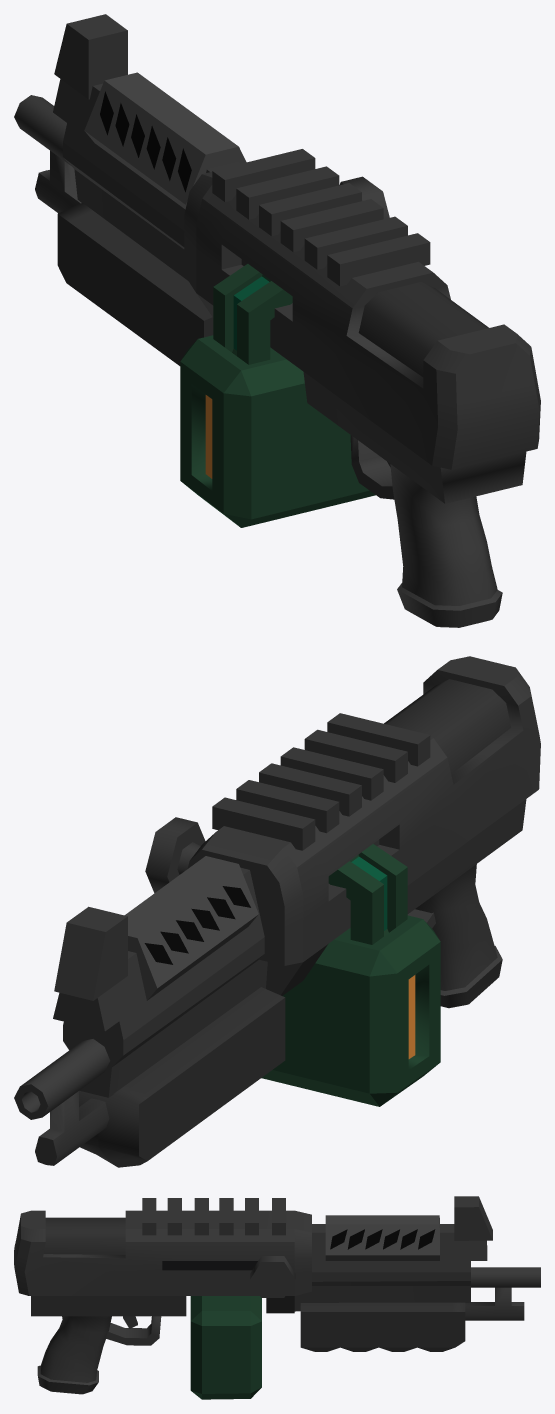
3 renders of one model, top to bottom at view 1: azimuth 30°, elevation 25°; view 2: azimuth 150°, elevation 25°; view 3: azimuth 270°, elevation 25°, orthographic. The views are drawn at different scales.
Parts seen in each view (by area): view 1: L6, L6Magazine; view 2: L6, L6Magazine; view 3: L6, L6Magazine.
Boxes of the visible parts, <box> form: L6: <box>14,14,540,627</box>; L6Magazine: <box>180,264,375,527</box>; L6: <box>14,656,540,1167</box>; L6Magazine: <box>261,844,440,1106</box>; L6: <box>14,1196,540,1394</box>; L6Magazine: <box>190,1296,261,1399</box>.
Size of the model in its own units: 0.2254 by 0.3269 by 0.8415.
